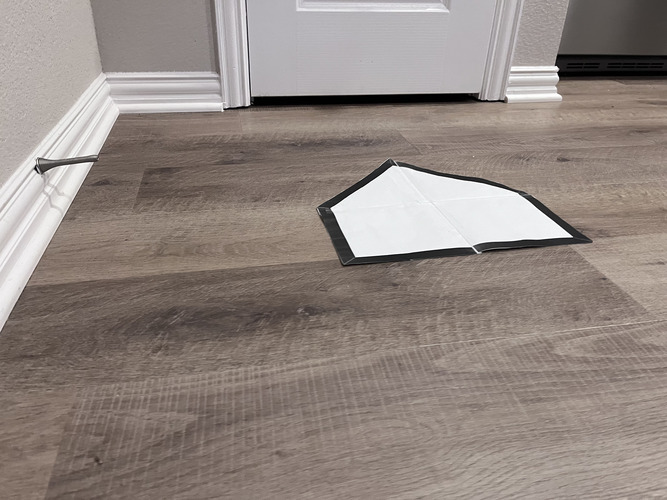homeplate: (317, 159, 593, 266)
